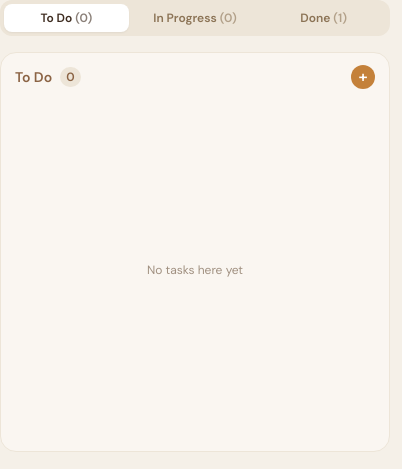
/team/tasks(showArchiveLink={true})要画 Done 栏底的连结 › also links from the mobile Done column once that tab is active
The width and height of the screenshot is (402, 469).
Click the button "Done (1)". click: (324,18)
box: [261,4,386,32]
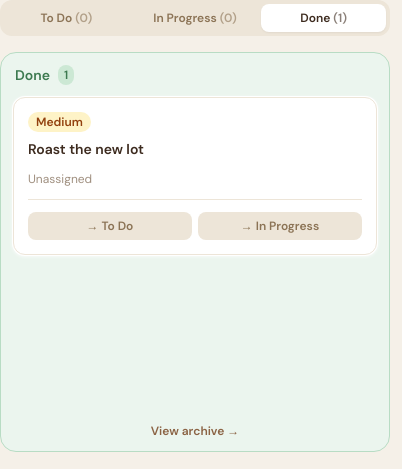
Expected: the number of links "View archive →" is 2
